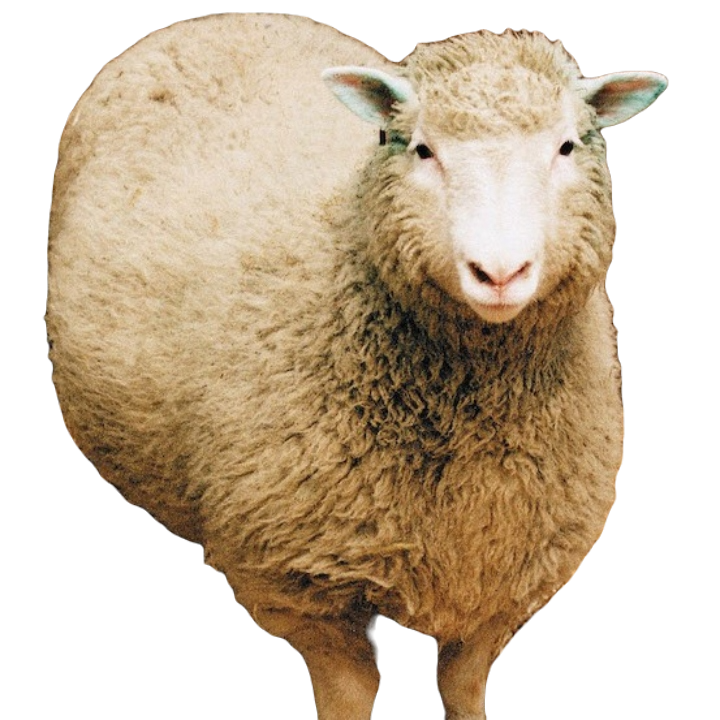Sheep: (38, 8, 676, 719)
